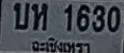0: (107, 5, 119, 31)
1: (64, 3, 71, 30)
3: (92, 4, 103, 31)
6: (76, 4, 89, 31)
A26: (13, 1, 29, 29)
A41: (32, 2, 47, 30)
CCO: (30, 36, 92, 53)
